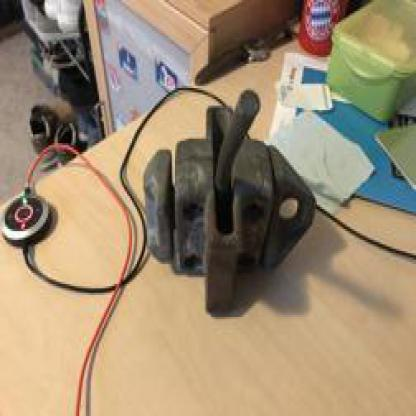Twistlock: (134, 79, 320, 328)
